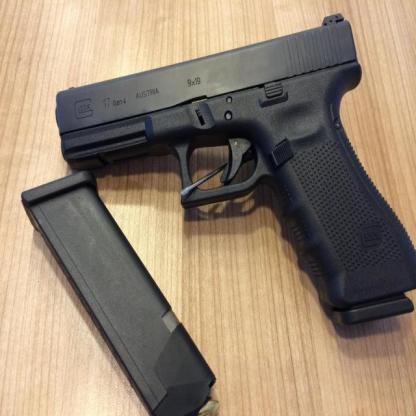weapon: (54, 11, 416, 326)
